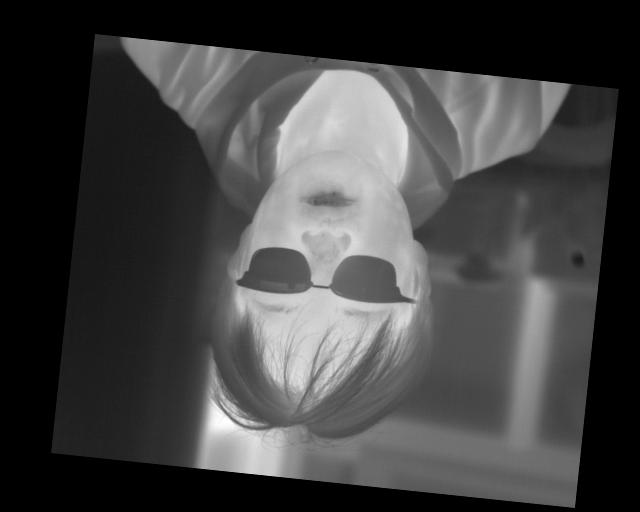face: (263, 309, 326, 390), (406, 305, 459, 382)
